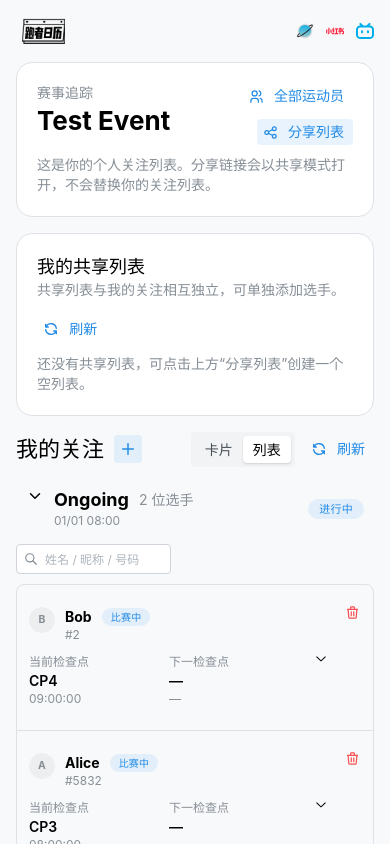
personal tracking page › shares defaults, group and runner ordering, local filtering, refresh persistence, and add UI
The width and height of the screenshot is (390, 844).
Check: the radio button labelled "列表" is checked, box [253,441,281,458]
Type "58" into the field named "筛选Ongoing选手" at (94, 559), box [16,544,171,574]
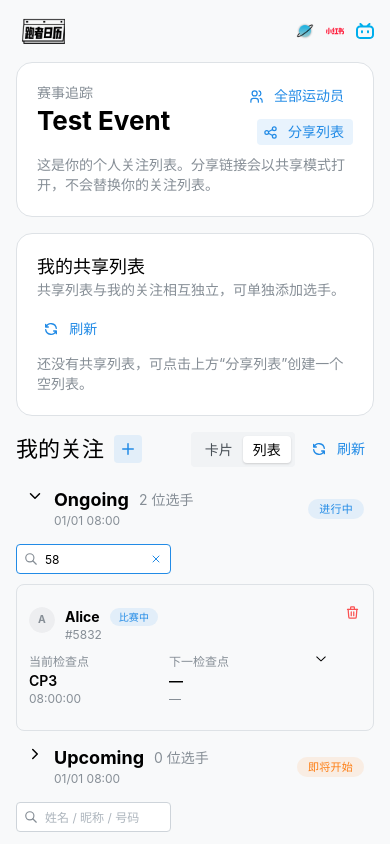
Check: the button "Bob" is gone
Click the radio button labelled "卡片" at (219, 449), box [205,441,233,458]
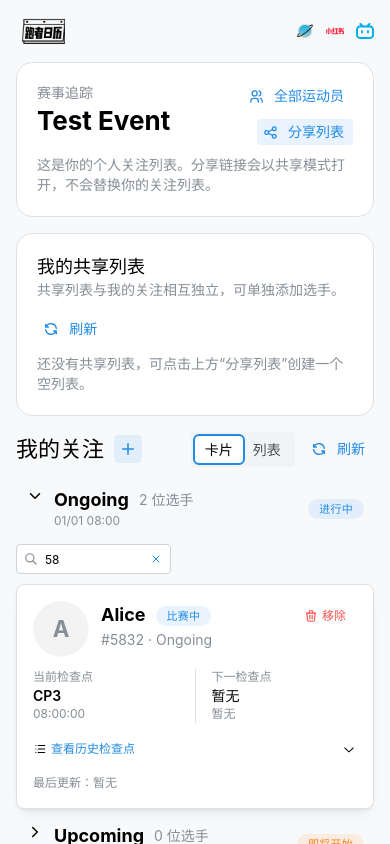
Check: the text "查看历史检查点" is shown, box [51,741,135,757]
Click the button "Ongoing 2 位选手 01/01 08:00 进行中" at (195, 509), box [16,483,374,534]
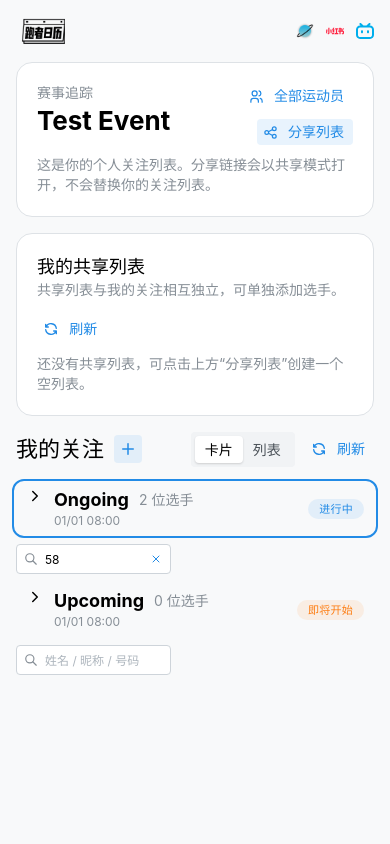
Click the button "刷新" in the row of "卡片" at (339, 449), box [305,436,374,462]
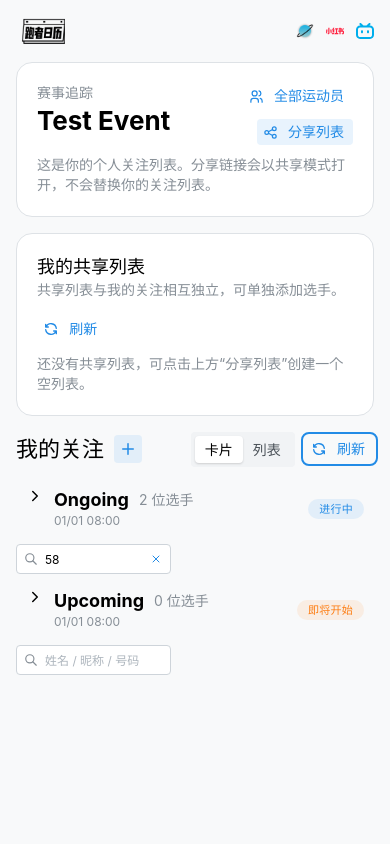
Check: the button "Ongoing 2 位选手 01/01 08:00 进行中" is collapsed, box [16,483,374,534]
Click the button named "添加选手" at (128, 449), box [114,435,142,463]
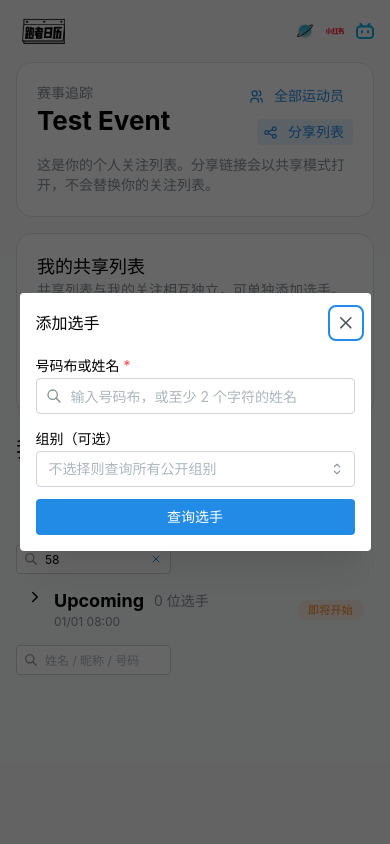
Check: the dialog "添加选手" is shown, box [20,293,370,551]
Check: the field labelled "号码布或姓名 *" is empty, box [36,378,354,414]
